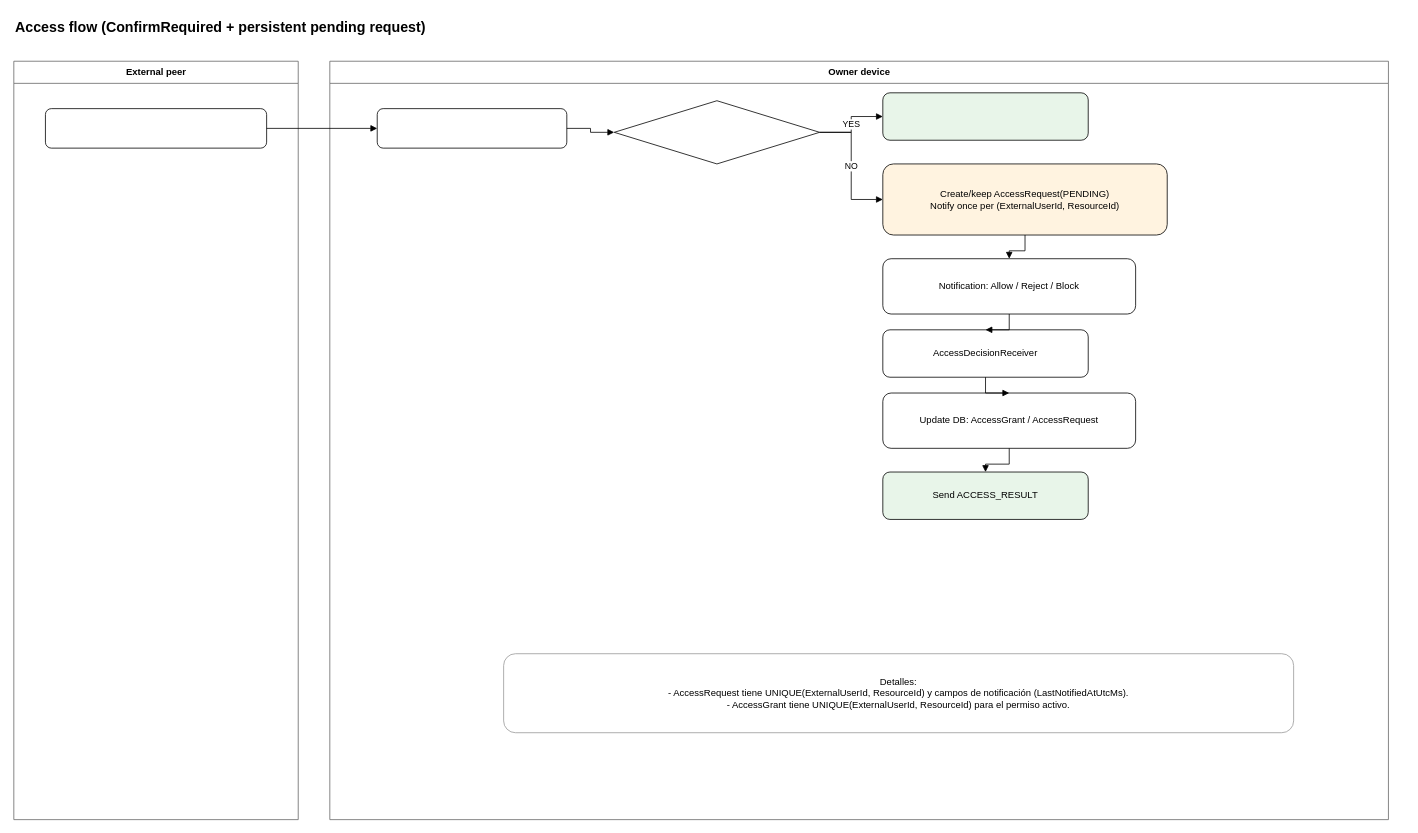
Some shapes in this 1418 by 833 pixel diagram are drawn without their labels. Here are the shapes that lost their labels. From the top down, the centre of each, then its label:
the point at 156,128: UDP request (ResourceId)
the point at 471,128: UdpOwnerService
the point at 716,132: Check AccessGrant active?
the point at 985,116: ALLOW: send data
